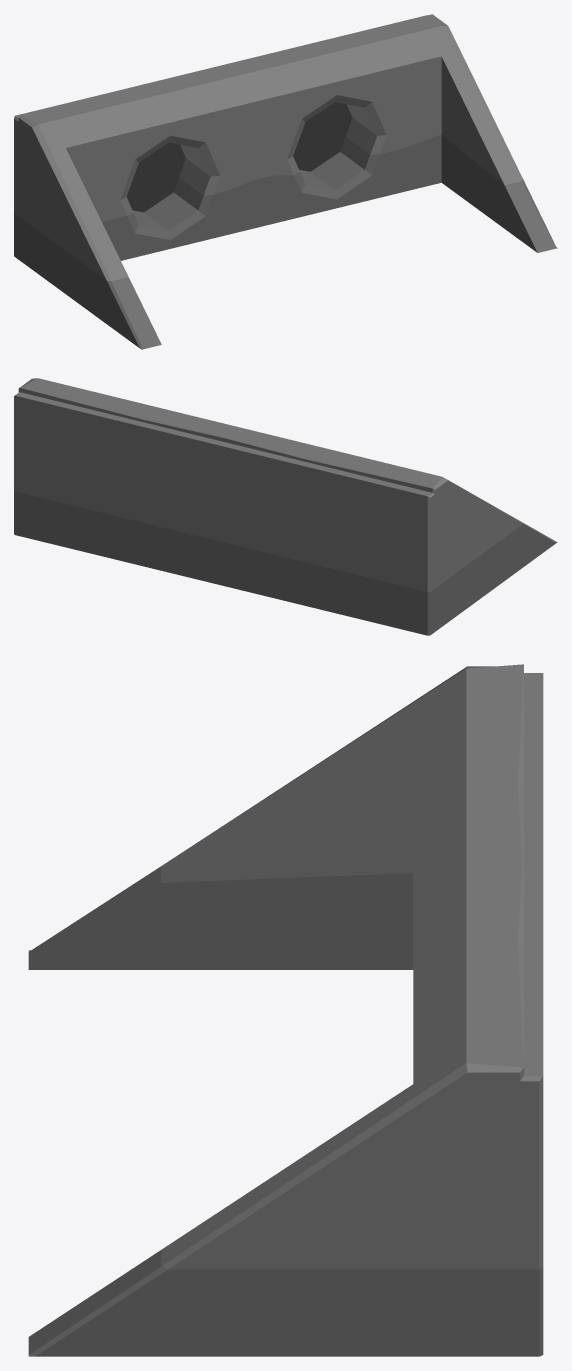
Rendered from SM_Envr_Canal_Discharge_04.fbx.
3 renders of one model, top to bottom at view 1: azimuth 30°, elevation 25°; view 2: azimuth 150°, elevation 25°; view 3: azimuth 270°, elevation 25°, orthographic. The views are drawn at different scales.
Parts seen in each view (by area): view 1: SM_Envr_Canal_Discharge_04; view 2: SM_Envr_Canal_Discharge_04; view 3: SM_Envr_Canal_Discharge_04.
Boxes of the visible parts, x1,y1,x2,y2 form: SM_Envr_Canal_Discharge_04: (14,14,557,349); SM_Envr_Canal_Discharge_04: (14,378,557,635); SM_Envr_Canal_Discharge_04: (28,664,543,1356).
Bounding box in the file's own units: 1000 × 330 × 535.
